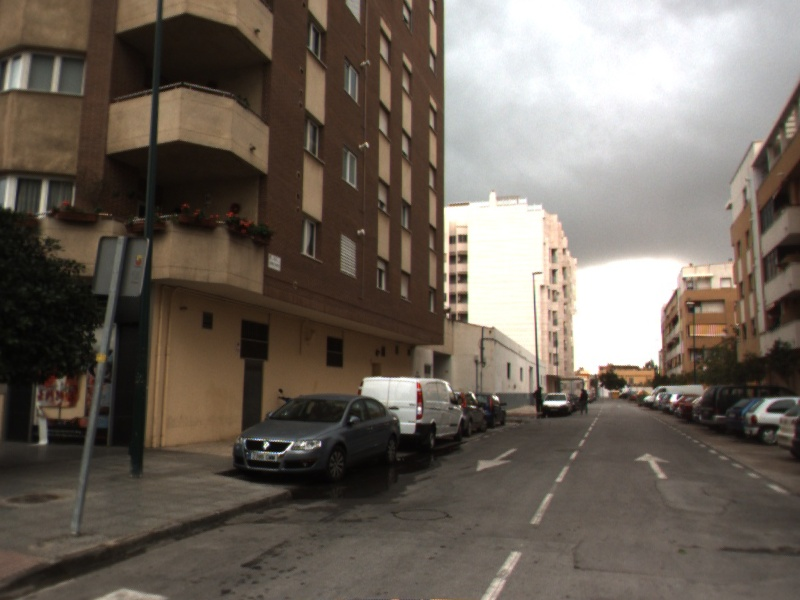STRAIGHT: (632, 450, 673, 481)
